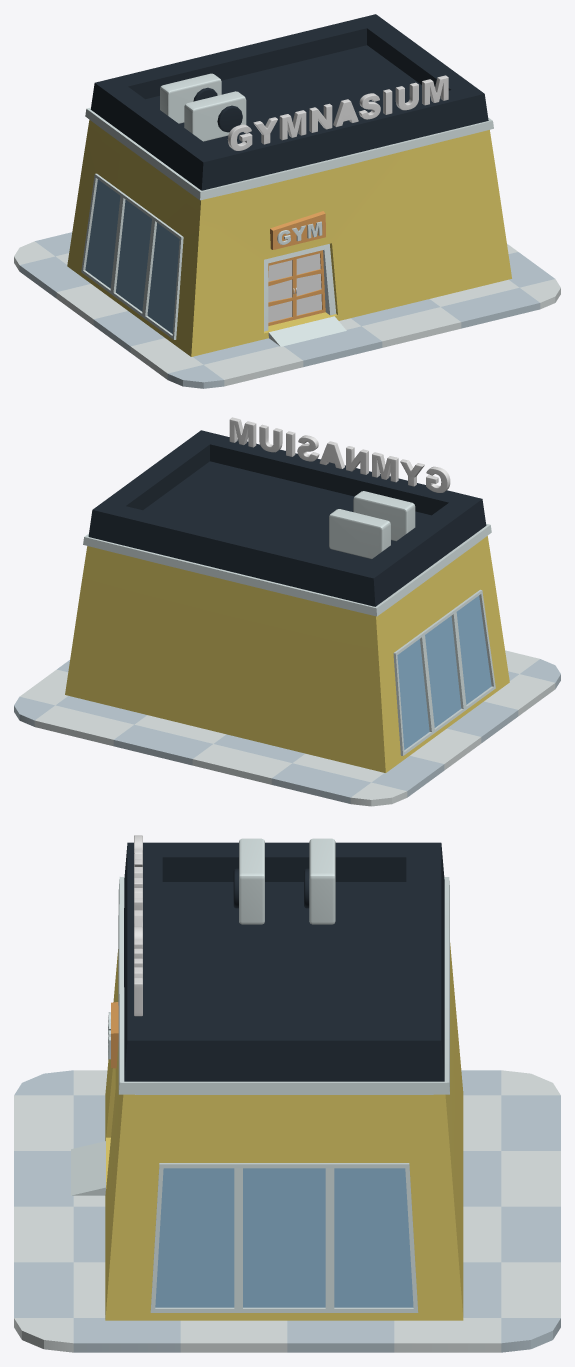
The model's file is Gym.fbx.
3 views of the same model, one above another, from view 1: azimuth 30°, elevation 25°; view 2: azimuth 150°, elevation 25°; view 3: azimuth 270°, elevation 25° (orthographic). The views are drawn at different scales.
Visible parts, largest first — view 1: gym_building, floor1, gymnasium, door; view 2: gym_building, floor1, gymnasium; view 3: gym_building, floor1, gymnasium.
Part boxes in pixels (bbox=[...]): gym_building: bbox=[67, 14, 511, 356]; floor1: bbox=[14, 232, 560, 388]; gymnasium: bbox=[227, 75, 448, 150]; door: bbox=[268, 250, 325, 325]; gym_building: bbox=[65, 430, 509, 772]; floor1: bbox=[14, 650, 560, 806]; gymnasium: bbox=[229, 417, 450, 492]; gym_building: bbox=[71, 838, 463, 1320]; floor1: bbox=[14, 1070, 560, 1352]; gymnasium: bbox=[134, 835, 142, 1016].
Bounding box in the file's own units: 2426 × 1280 × 2054.
